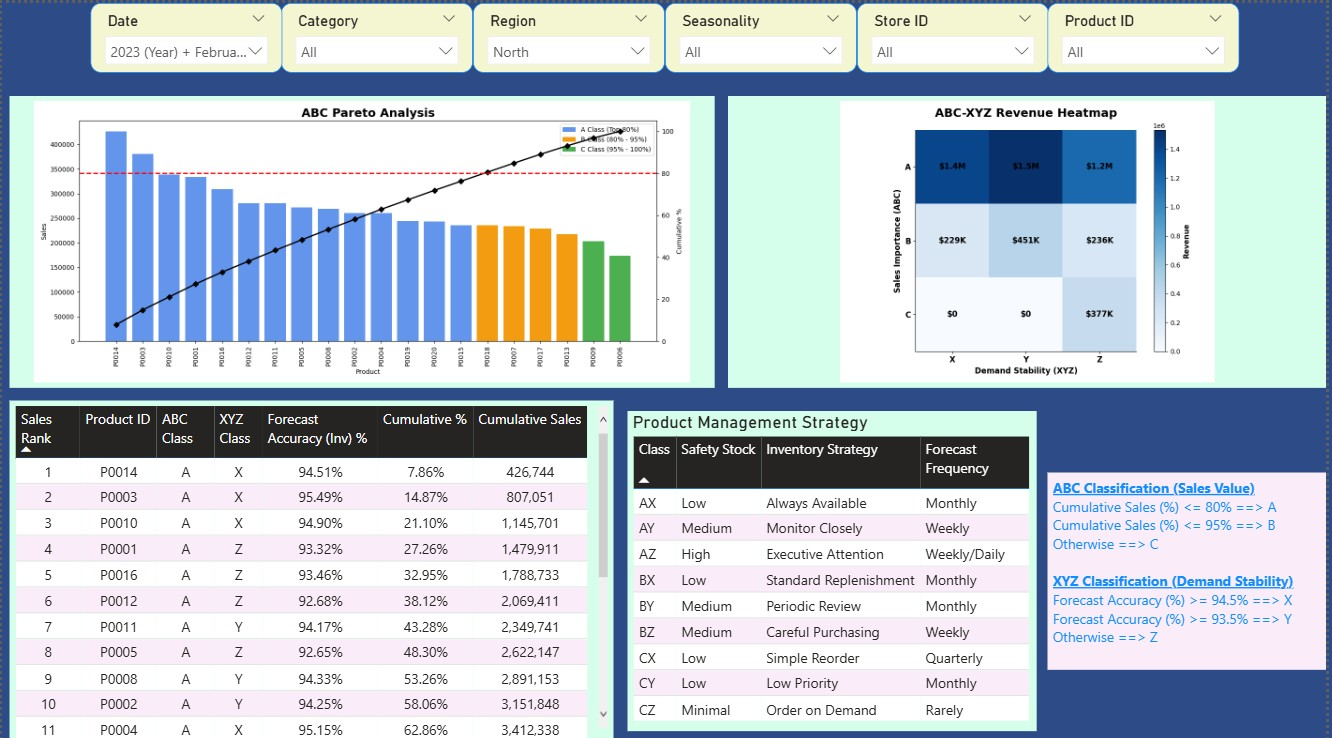

This screenshot's page, from the dashboard's own definition file:
{"tool":"powerbi","page":{"name":"Product Segmentation","canvas":[1280,720],"ordinal":3},"visuals":[{"type":"slicer","fields":{"Values":["retail_store_inventory.Category"]},"box":[270.1,0,185.1,67.1],"z":0},{"type":"slicer","fields":{"Values":["retail_store_inventory.Region"]},"box":[455.3,0,185.1,67.1],"z":3000},{"type":"slicer","fields":{"Values":["retail_store_inventory.Seasonality"]},"box":[640.4,0,185.1,67.1],"z":4000},{"type":"slicer","fields":{"Values":["retail_store_inventory.Store ID"]},"box":[825.5,0,185.1,67.1],"z":5000},{"type":"slicer","fields":{"Values":["retail_store_inventory.Date.Variation.Date Hierarchy.Year","retail_store_inventory.Date.Variation.Date Hierarchy.Month"]},"box":[85,0,185.1,67.1],"z":6000},{"type":"slicer","fields":{"Values":["retail_store_inventory.Product ID"]},"box":[1010.7,0,185.1,67.1],"z":7000},{"type":"tableEx","fields":{"Values":["Measure Table.Sales Rank","Dimension (Product).Product ID","Measure Table.ABC Class","Measure Table.XYZ Class","Measure Table.Forecast Accuracy (Inv) %","Measure Table.Cumulative %","Measure Table.Cumulative Sales"]},"box":[7.2,383.7,583.2,330],"z":8000},{"type":"pythonVisual","fields":{"Values":["Dimension (Product).Product ID","Sum(retail_store_inventory.Revenue)"]},"box":[7.2,90.3,681.2,281.9],"z":9000},{"type":"pythonVisual","fields":{"Values":["Dimension (Product).Product ID","Measure Table.ABC Class","Measure Table.XYZ Class","Measure Table.Sales (Inv)"]},"box":[701,90.3,578.2,281.9],"z":10000},{"type":"textbox","box":[1010.7,453.5,269.2,190.5],"z":11000},{"type":"tableEx","title":"Product Management Strategy","fields":{"Values":["Product Strategy.Class","Product Strategy.Safety Stock","Product Strategy.Inventory Strategy","Product Strategy.Forecast Frequency"]},"box":[603.7,394.4,395.3,309.5],"z":12000}]}

Visuals, with their boxes in screenshot pixels (x1, y1, x2, y2), scaled from the page's 1280x720 canvas onto the 1332x738 screenshot:
slicer - retail_store_inventory.Category: bbox=(281, 0, 474, 69)
slicer - retail_store_inventory.Region: bbox=(474, 0, 666, 69)
slicer - retail_store_inventory.Seasonality: bbox=(666, 0, 859, 69)
slicer - retail_store_inventory.Store ID: bbox=(859, 0, 1052, 69)
slicer - retail_store_inventory.Date.Variation.Date Hierarchy.Year x retail_store_inventory.Date.Variation.Date Hierarchy.Month: bbox=(88, 0, 281, 69)
slicer - retail_store_inventory.Product ID: bbox=(1052, 0, 1244, 69)
tableEx - Measure Table.Sales Rank x Dimension (Product).Product ID: bbox=(7, 393, 614, 732)
pythonVisual - Dimension (Product).Product ID x Sum(retail_store_inventory.Revenue): bbox=(7, 93, 716, 382)
pythonVisual - Dimension (Product).Product ID x Measure Table.ABC Class: bbox=(729, 93, 1331, 382)
textbox: bbox=(1052, 465, 1331, 660)
"Product Management Strategy" tableEx: bbox=(628, 404, 1040, 721)
